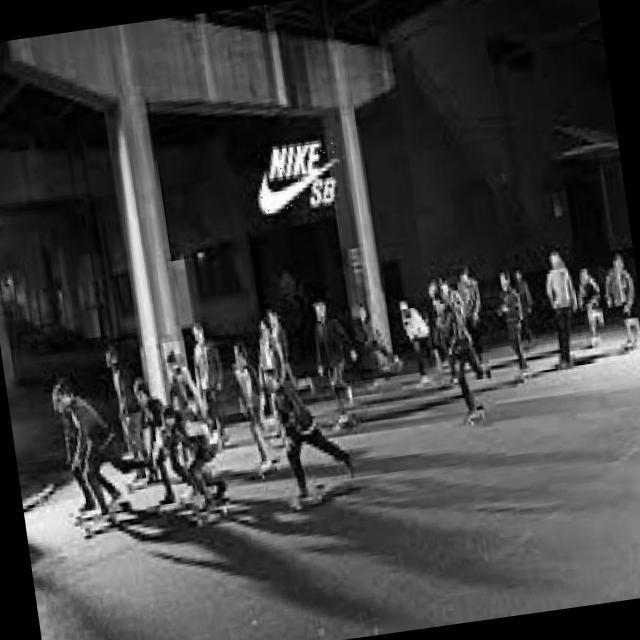Nike: (246, 132, 344, 218)
